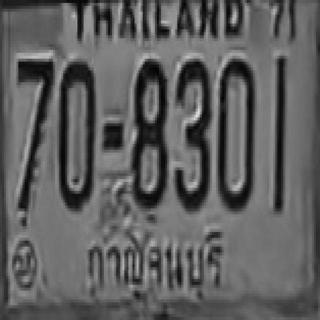N00: (216, 56, 255, 208), (57, 59, 94, 208)
N01: (274, 56, 286, 188)
N03: (172, 56, 211, 208)
N07: (16, 56, 53, 206), (16, 56, 53, 191), (16, 56, 53, 159)
N08: (130, 59, 165, 205)
P17: (79, 224, 226, 308)
